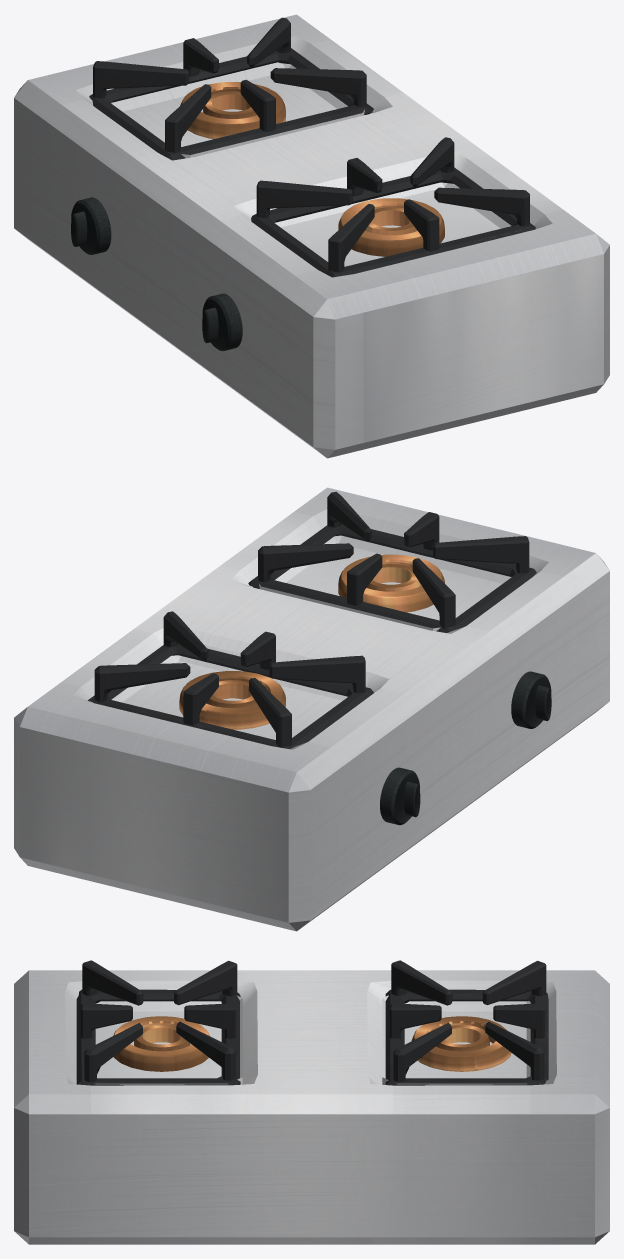
The model's file is FACTORYUVOK.fbx.
The picture shows the model from 3 angles, top to bottom: view 1: azimuth 30°, elevation 25°; view 2: azimuth 150°, elevation 25°; view 3: azimuth 270°, elevation 25°; orthographic projection. The views are drawn at different scales.
Parts seen in each view (by area): view 1: pasted__Subject, pasted__pasted__pasted__pCube4 (×4), pasted__pCube2, pasted__pasted__pCube2, pasted__pasted__pasted__pasted__pCube4 (×3), pasted__pasted__pCube4, pasted__pasted__pCylinder3, pasted__pCylinder2, pasted__pasted__pasted__pCylinder5, pasted__pasted__pCylinder5, pasted__pCube3, pasted__pasted__pCylinder2 (+4 smaller); view 2: pasted__Subject, pasted__pasted__pasted__pCube4 (×4), pasted__pasted__pasted__pasted__pCube4 (×3), pasted__pasted__pCube2, pasted__pCube2, pasted__pCylinder2, pasted__pasted__pCylinder3, pasted__pasted__pasted__pCylinder5, pasted__pasted__pCylinder5, pasted__pasted__pCube4, pasted__pasted__pCube3, pasted__pasted__pasted__pCube3 (+4 smaller); view 3: pasted__Subject, pasted__pasted__pasted__pCube4 (×4), pasted__pasted__pasted__pasted__pCube4 (×3), pasted__pasted__pCube2, pasted__pCube2, pasted__pCylinder2, pasted__pasted__pCylinder3, pasted__pasted__pCube4, pasted__pCube3, pasted__pasted__pCube3, pasted__pasted__pCube6, pasted__pasted__pasted__pCube3 (+2 smaller).
Boxes of the visible parts, x1=… form: pasted__Subject: x1=14, y1=14, x2=609, y2=458; pasted__pasted__pasted__pCube4 (×4): x1=93, y1=17, x2=374, y2=272; pasted__pCube2: x1=89, y1=48, x2=373, y2=160; pasted__pasted__pCube2: x1=251, y1=167, x2=535, y2=277; pasted__pasted__pasted__pasted__pCube4 (×3): x1=165, y1=84, x2=529, y2=226; pasted__pasted__pCube4: x1=256, y1=180, x2=352, y2=217; pasted__pasted__pCylinder3: x1=338, y1=198, x2=444, y2=256; pasted__pCylinder2: x1=180, y1=82, x2=285, y2=139; pasted__pasted__pasted__pCylinder5: x1=202, y1=293, x2=242, y2=351; pasted__pasted__pCylinder5: x1=71, y1=197, x2=111, y2=254; pasted__pCube3: x1=404, y1=199, x2=439, y2=251; pasted__pasted__pCylinder2: x1=203, y1=91, x2=256, y2=118; pasted__Subject: x1=14, y1=487, x2=609, y2=931; pasted__pasted__pasted__pCube4 (×4): x1=94, y1=536, x2=529, y2=747; pasted__pasted__pasted__pasted__pCube4 (×3): x1=258, y1=491, x2=371, y2=692; pasted__pasted__pCube2: x1=248, y1=524, x2=536, y2=632; pasted__pCube2: x1=88, y1=644, x2=373, y2=749; pasted__pCylinder2: x1=179, y1=671, x2=285, y2=729; pasted__pasted__pCylinder3: x1=338, y1=554, x2=444, y2=612; pasted__pasted__pasted__pCylinder5: x1=511, y1=671, x2=551, y2=728; pasted__pasted__pCylinder5: x1=380, y1=767, x2=420, y2=825; pasted__pasted__pCube4: x1=412, y1=558, x2=455, y2=628; pasted__pasted__pCube3: x1=183, y1=673, x2=218, y2=725; pasted__pasted__pasted__pCube3: x1=347, y1=553, x2=382, y2=605; pasted__Subject: x1=14, y1=970, x2=609, y2=1244; pasted__pasted__pasted__pCube4 (×4): x1=82, y1=960, x2=546, y2=1082; pasted__pasted__pasted__pasted__pCube4 (×3): x1=84, y1=960, x2=452, y2=1082; pasted__pasted__pCube2: x1=76, y1=989, x2=240, y2=1085; pasted__pCube2: x1=385, y1=989, x2=548, y2=1085; pasted__pCylinder2: x1=411, y1=1016, x2=511, y2=1071; pasted__pasted__pCylinder3: x1=113, y1=1016, x2=209, y2=1071; pasted__pasted__pCube4: x1=174, y1=960, x2=237, y2=1005; pasted__pCube3: x1=80, y1=1003, x2=132, y2=1038; pasted__pasted__pCube3: x1=493, y1=1003, x2=545, y2=1038; pasted__pasted__pCube6: x1=389, y1=1003, x2=441, y2=1038; pasted__pasted__pasted__pCube3: x1=184, y1=1003, x2=236, y2=1038.
Size of the model in its own units: 41.04 by 22.95 by 70.
4 materials, 4 textured.
